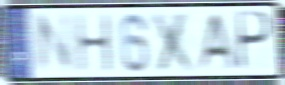6: (118, 11, 150, 75)
A: (194, 11, 239, 72)
H: (73, 12, 115, 74)
N: (34, 10, 75, 76)
P: (236, 9, 274, 74)
X: (149, 10, 200, 73)
